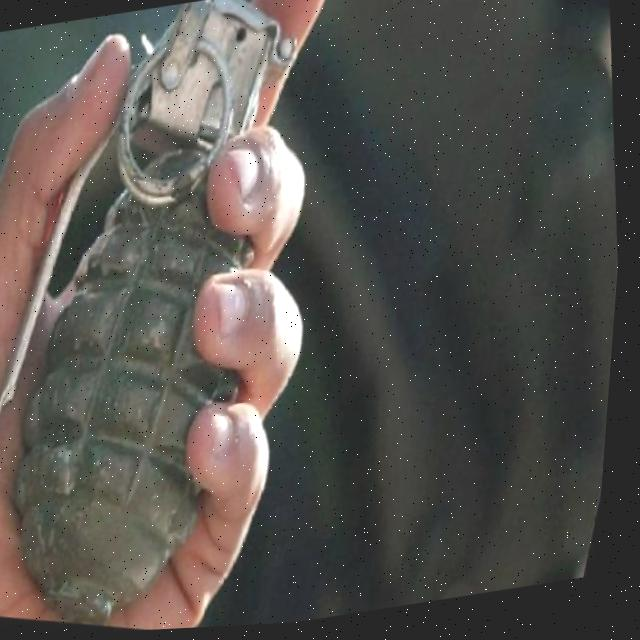grenade: (0, 0, 398, 640)
